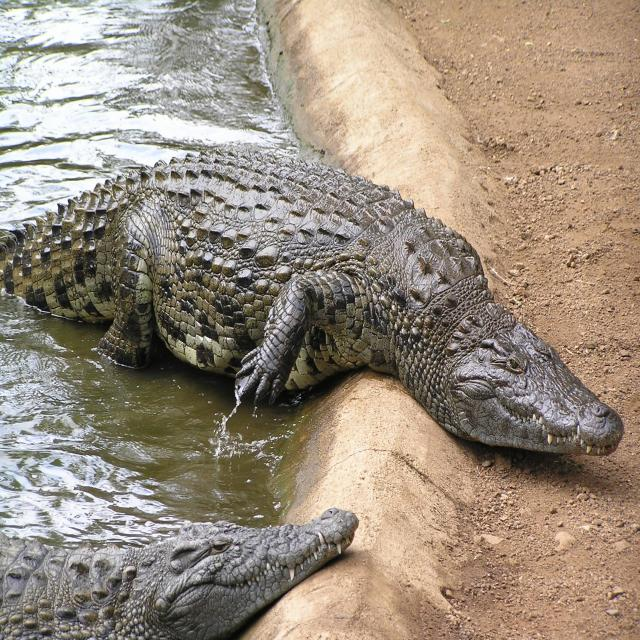crocodile: (0, 140, 632, 479)
